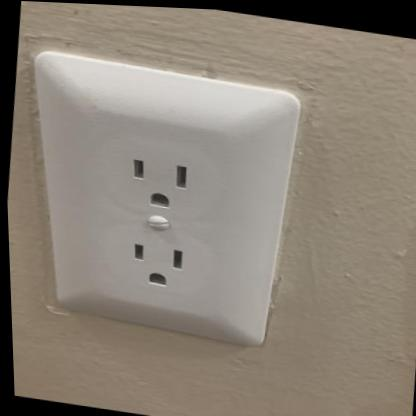OUTLET: (5, 46, 312, 351)
